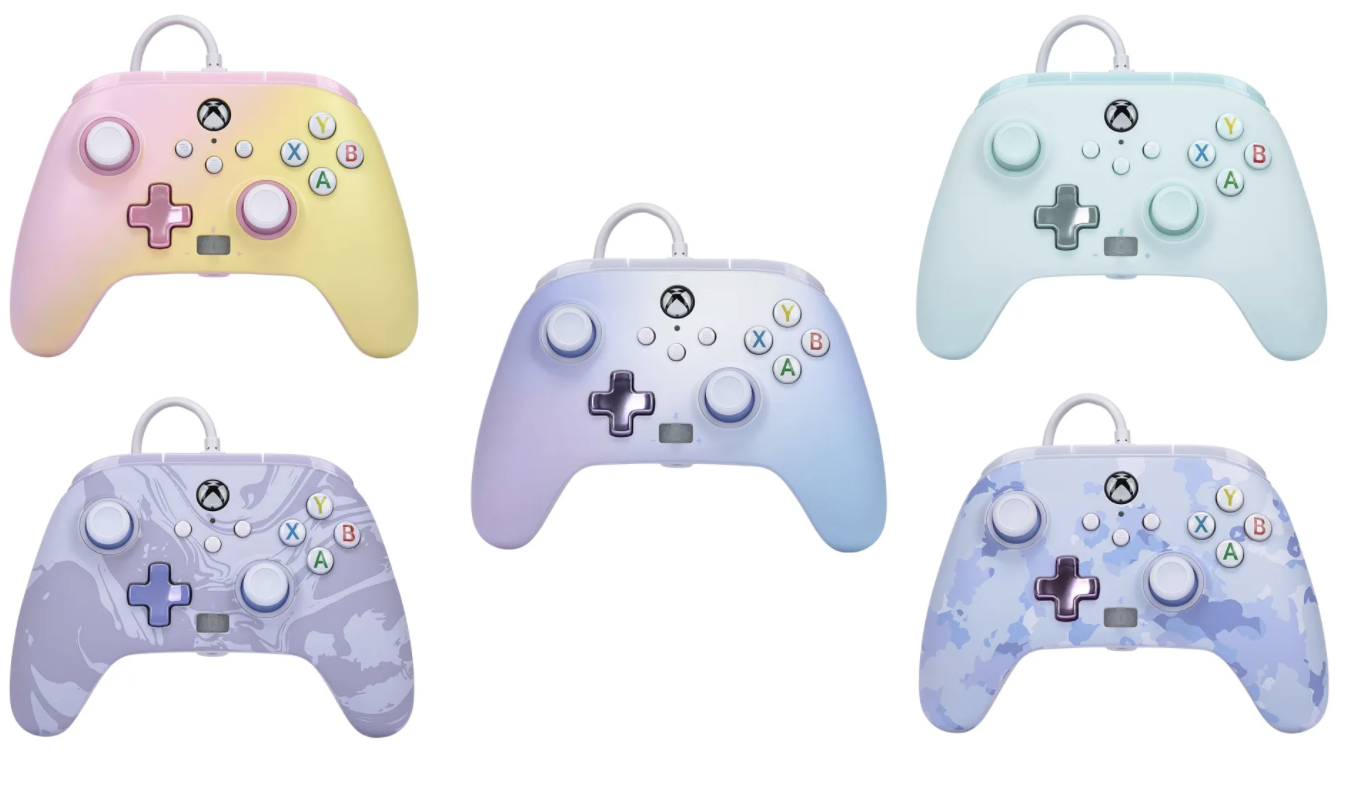controller: (469, 258, 886, 553), (8, 70, 421, 358), (915, 73, 1328, 360), (917, 447, 1329, 733), (11, 454, 416, 738)
